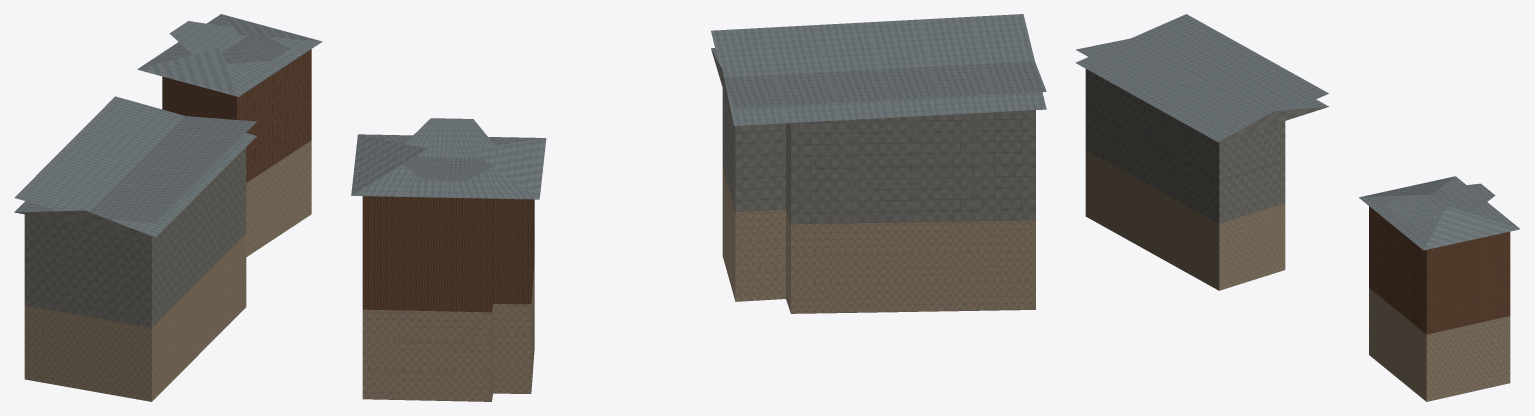
File: bld_c9_18_428.gltf
The picture shows the model from 3 angles, left to right: view 1: azimuth 30°, elevation 25°; view 2: azimuth 150°, elevation 25°; view 3: azimuth 270°, elevation 25°; orthographic projection. The views are drawn at different scales.
Visible parts, largest first — view 1: bld_c9_18_428; view 2: bld_c9_18_428; view 3: bld_c9_18_428.
Boxes of the visible parts, bbox=[...] form: bld_c9_18_428: bbox=[14, 14, 322, 401]; bld_c9_18_428: bbox=[351, 14, 1046, 401]; bld_c9_18_428: bbox=[1075, 14, 1520, 401].
Size of the model in its own units: 31.61 by 15 by 30.62.
5 materials, 5 textured.
